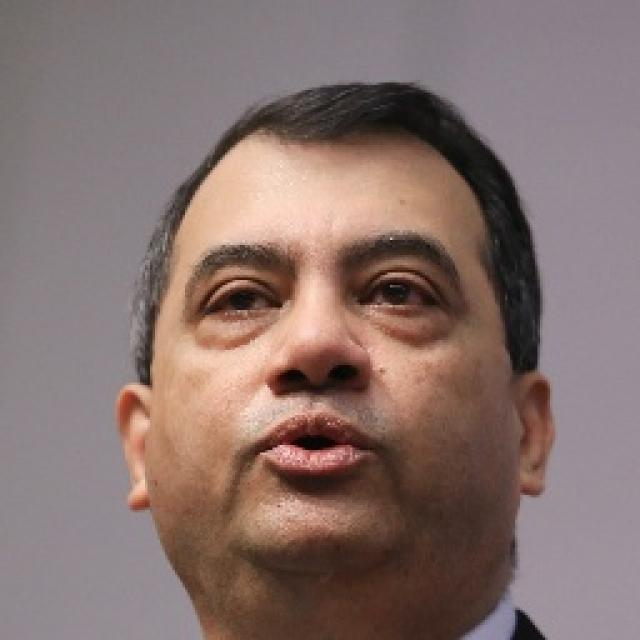earlobe: (516, 372, 558, 499), (116, 382, 153, 513)
